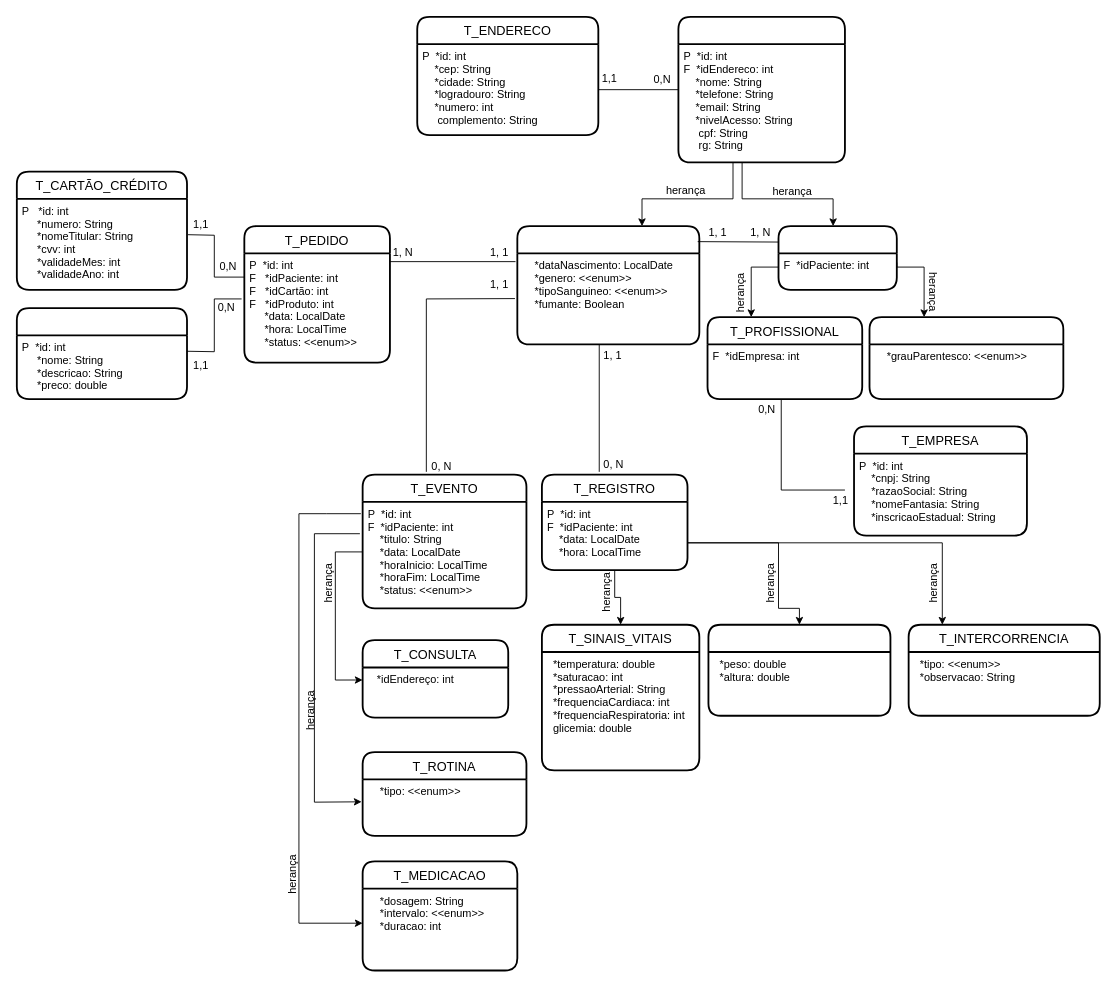
Image size: 1116x986. Some labels were removed from this diagram. Here are the shapes that lost their labels. From the top down, the box of each, then its label:
(677, 15, 845, 163): T_PESSOA
(777, 225, 897, 290): T_CUIDADOR
(516, 225, 700, 345): T_PACIENTE
(15, 307, 187, 399): T_PRODUTO
(868, 316, 1064, 399): T_FAMILIAR
(707, 623, 891, 716): T_MEDIDAS_CORPORAIS
